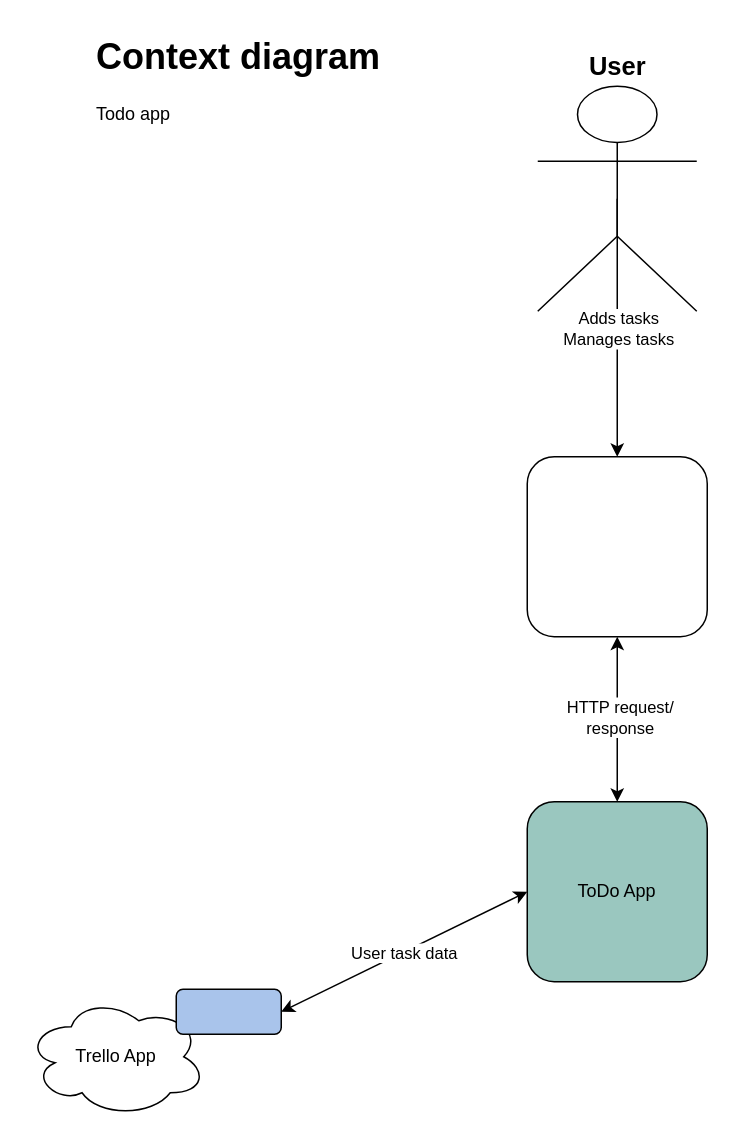
Image size: 734x1143. Some labels were removed from this diagram. The shapes that lost their labels are listed below. From the top down, each one's centre as x and y in pixels, then its label:
At [616,546]: "Web browser".
At [228,1011]: "Trello API".
